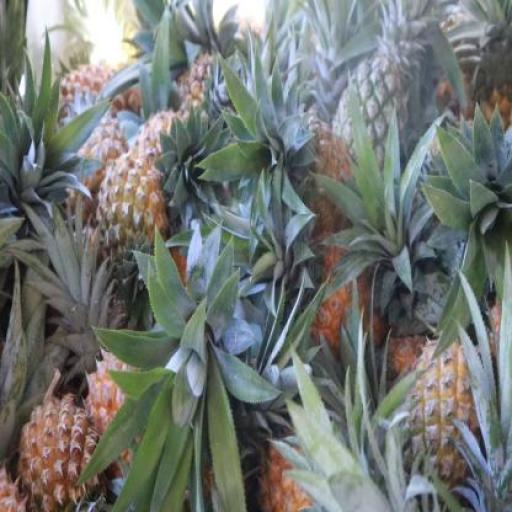------------------------------: (393, 345, 476, 497), (98, 148, 165, 282)
Pineapple - v8 v1: (16, 394, 94, 512)
